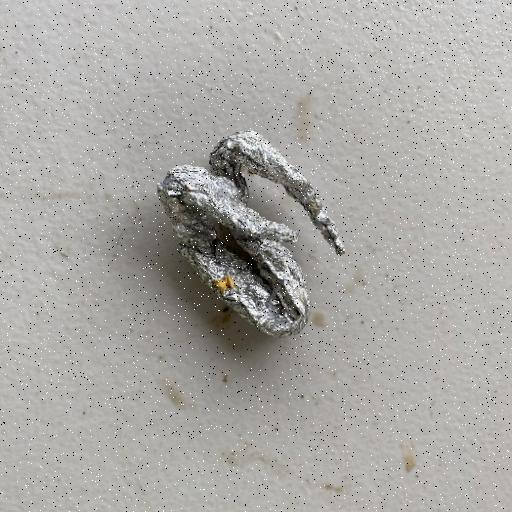Metal: (153, 127, 347, 340)
